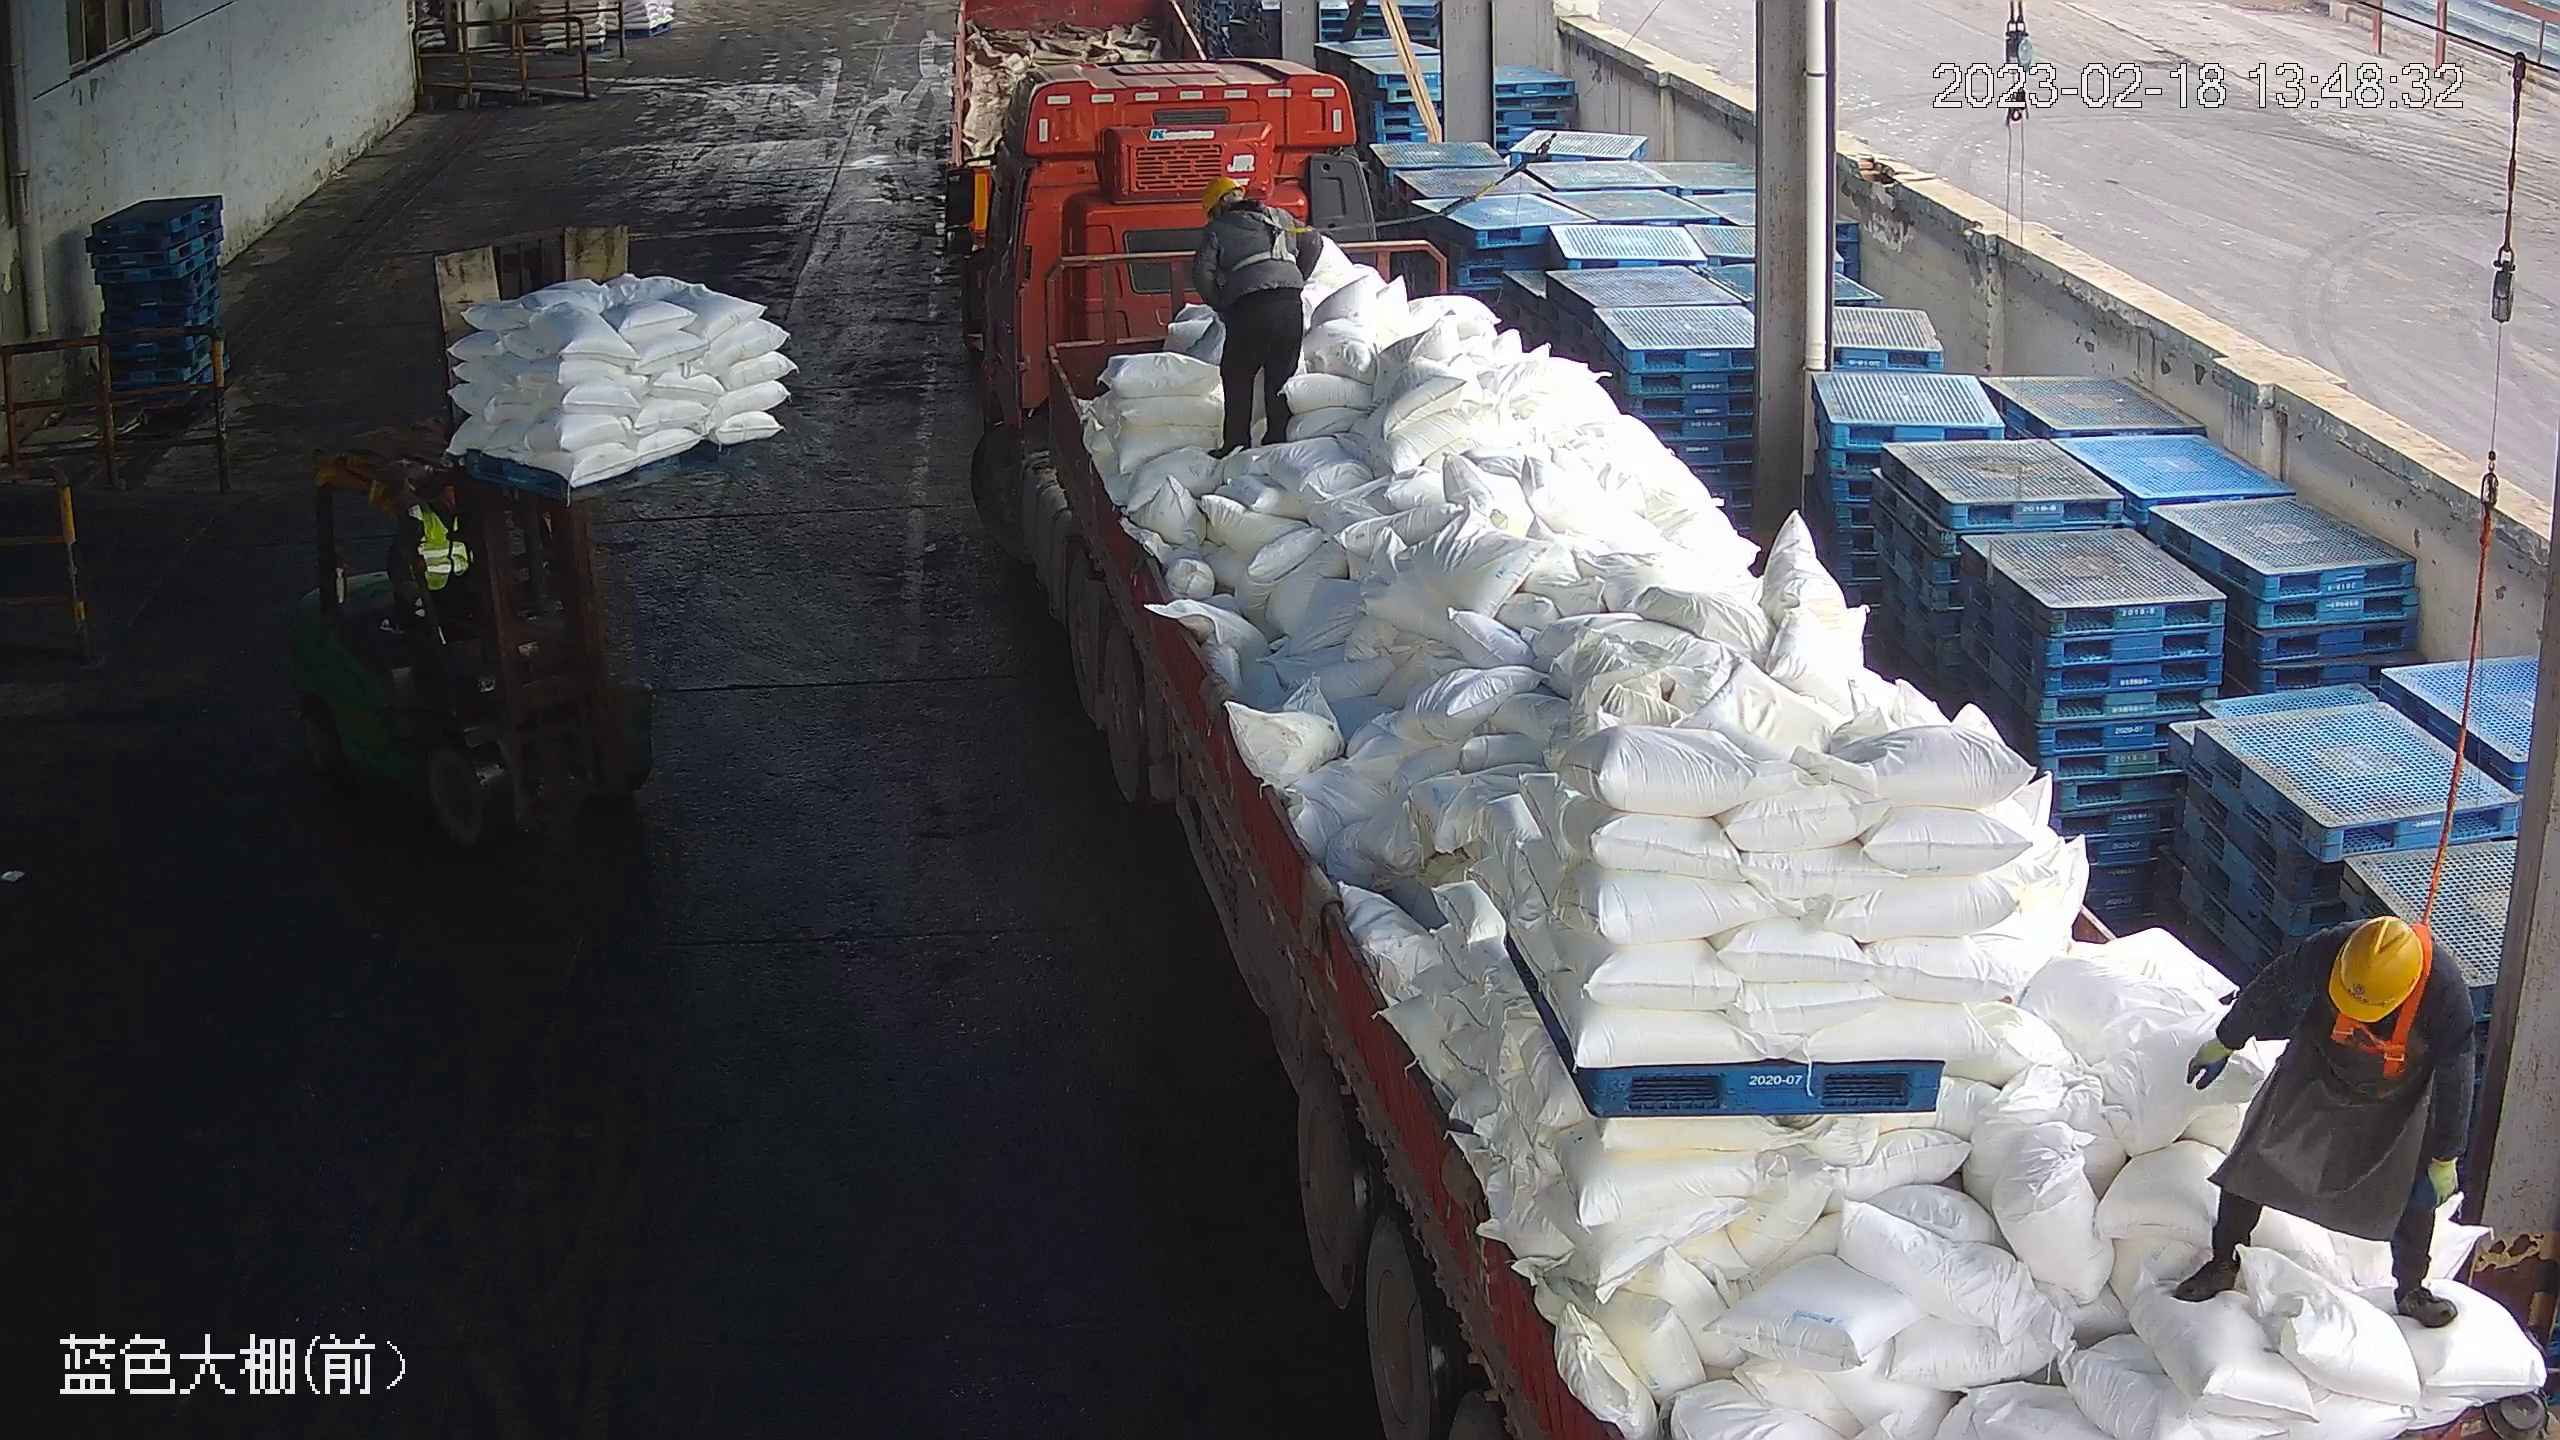belt: (2321, 929, 2435, 1072), (1228, 201, 1310, 270)
head: (2283, 906, 2464, 1077), (1198, 172, 1294, 243)
helmet: (2328, 911, 2429, 1023), (1197, 171, 1242, 210)
people: (2174, 908, 2488, 1326), (1190, 165, 1310, 459)
truck: (947, 43, 2541, 1440)
